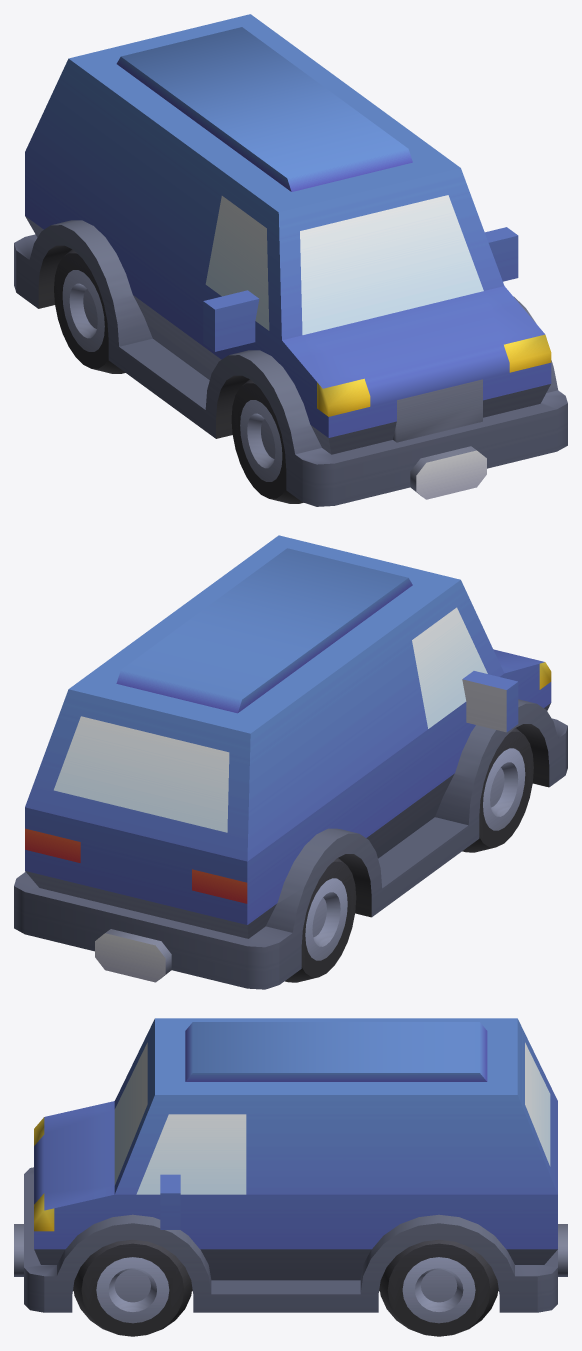
3 views of the same model, one above another, from view 1: azimuth 30°, elevation 25°; view 2: azimuth 150°, elevation 25°; view 3: azimuth 270°, elevation 25° (orthographic). The views are drawn at different scales.
Visible parts, largest first — view 1: body, wheel-front-right, wheel-back-right; view 2: body, wheel-back-right, wheel-front-right; view 3: body, wheel-front-left, wheel-back-left.
Part boxes in pixels (box(x1,y1,x2,y2)): body: box(14, 14, 567, 506); wheel-front-right: box(231, 379, 303, 503); wheel-back-right: box(54, 249, 125, 373); body: box(14, 535, 567, 989); wheel-back-right: box(285, 858, 356, 982); wheel-front-right: box(462, 728, 533, 852); body: box(14, 1018, 567, 1312); wheel-front-left: box(73, 1239, 192, 1336); wheel-back-left: box(379, 1239, 498, 1336).
Bounding box in the file's own units: 1.5 × 1.35 × 2.75.
1 material, 1 textured.
